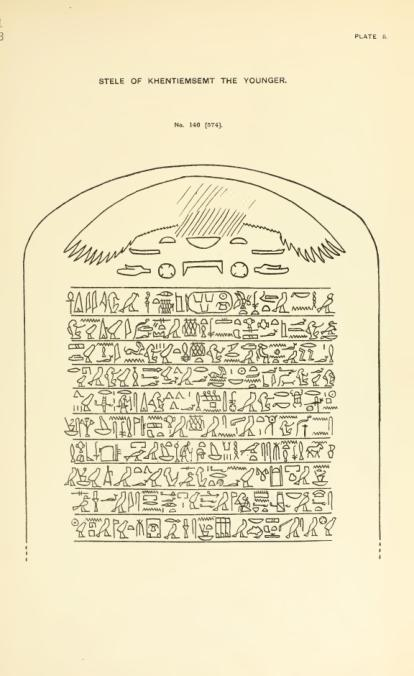circle: (183, 289, 234, 316)
